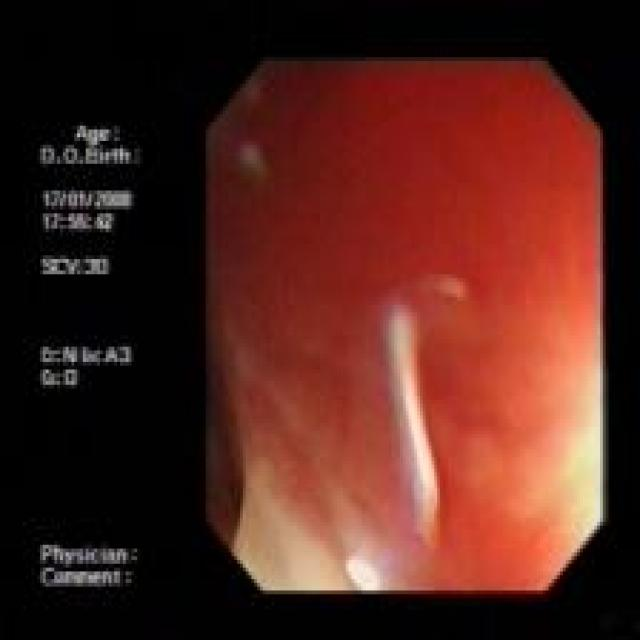color misalignment: (34, 120, 140, 599), (378, 300, 451, 541), (205, 367, 236, 536), (230, 133, 278, 197)
saturation: (538, 358, 601, 520)
specularity: (342, 552, 382, 590)
